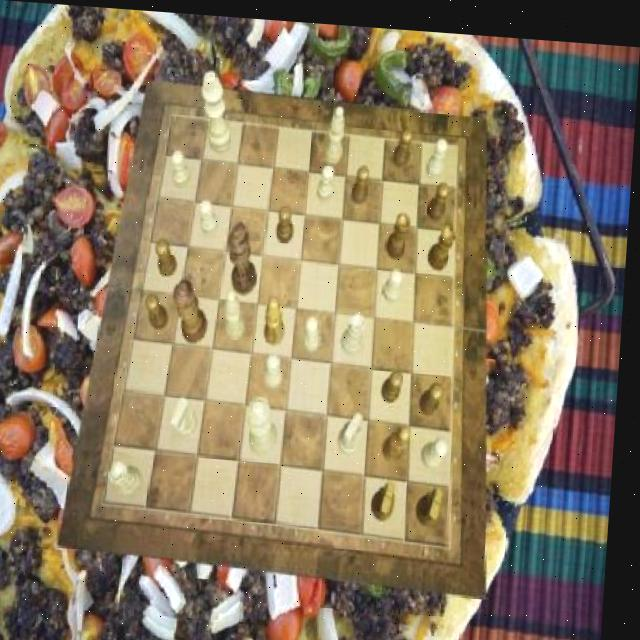bishop: (266, 294, 290, 342), (387, 419, 415, 458)
black-bishop: (227, 217, 263, 293)
black-king: (422, 480, 450, 522), (376, 474, 401, 516)
black-knight: (429, 175, 451, 216), (148, 291, 173, 327), (158, 236, 182, 273), (423, 375, 448, 410), (394, 122, 415, 163), (385, 362, 407, 397), (352, 159, 371, 199), (277, 201, 296, 238)
black-pawn: (174, 276, 214, 341)
black-queen: (431, 217, 459, 264), (388, 206, 413, 254)
black-rook: (324, 101, 346, 161), (227, 285, 250, 335)
white-bishop: (200, 67, 237, 151)
white-king: (175, 395, 204, 436), (343, 406, 369, 450)
white-knight: (426, 130, 449, 173), (426, 431, 453, 465), (171, 148, 193, 186), (201, 197, 223, 234), (385, 262, 406, 297), (317, 158, 336, 196), (307, 311, 326, 348), (268, 349, 287, 384)
white-pawn: (250, 391, 285, 451)
white-queen: (114, 457, 149, 494), (344, 306, 370, 350)
